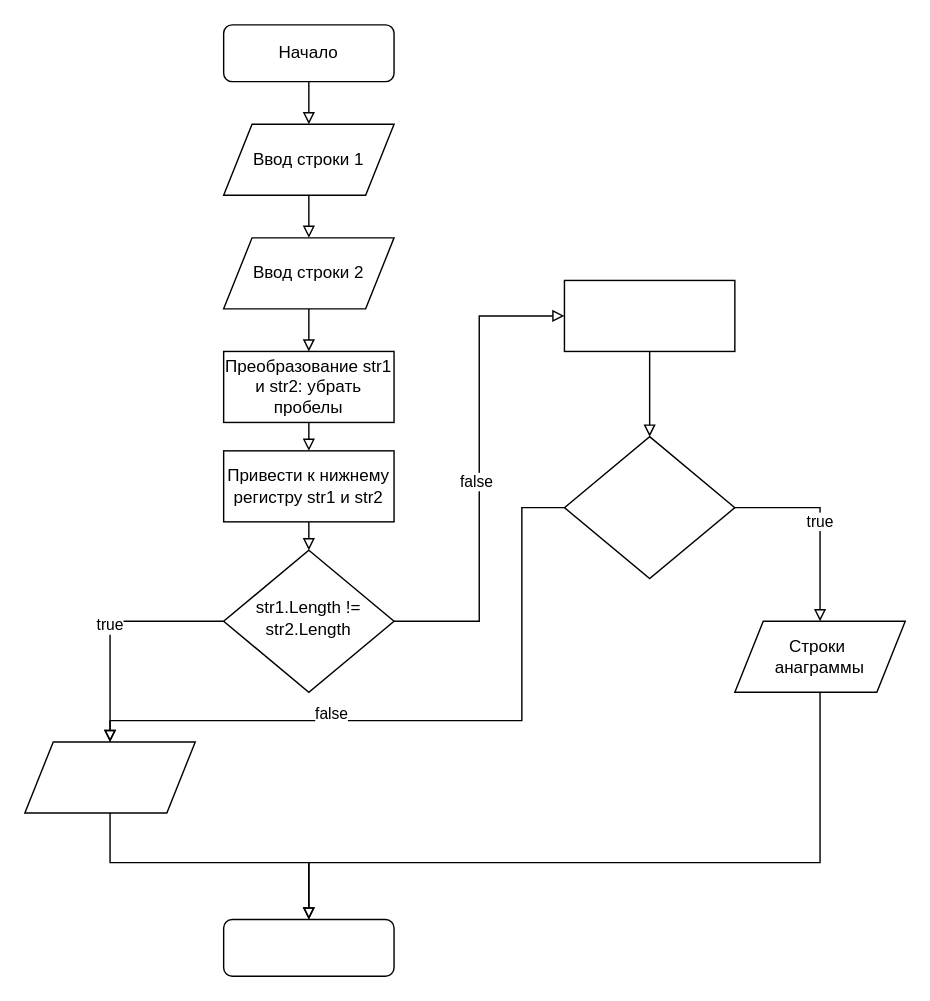
Some shapes in this 930 by 1001 pixel diagram are drawn without their labels. The centre of each missing label's shape, as x and y in pixels:
"str == str2" goes at point 649,507.
"конец" goes at point 308,947.
"Сортировка символов" goes at point 649,315.
"Строки не анаграммы" goes at point 109,777.
